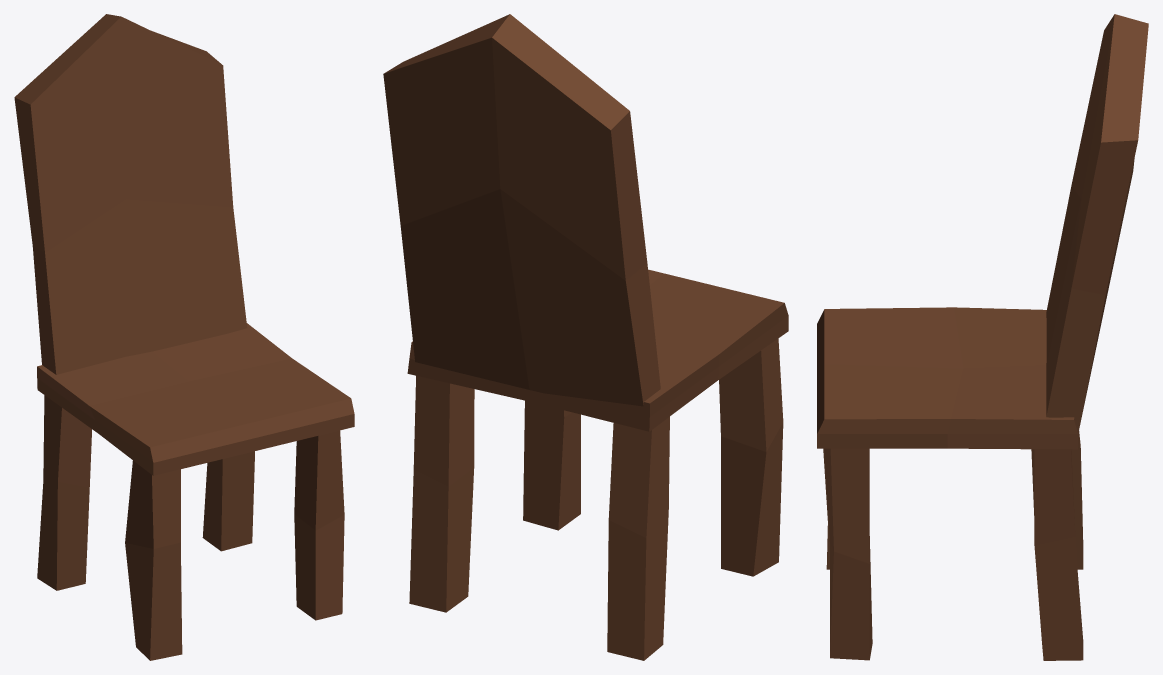
The model's file is wooden_chair.glb.
3 views of the same model, side by side, from view 1: azimuth 30°, elevation 25°; view 2: azimuth 150°, elevation 25°; view 3: azimuth 270°, elevation 25° (orthographic). The views are drawn at different scales.
Visible parts, largest first — view 1: Mesh; view 2: Mesh; view 3: Mesh.
Boxes of the visible parts, <box> form: Mesh: <box>14,14,354,660</box>; Mesh: <box>383,14,788,660</box>; Mesh: <box>817,14,1148,660</box>.
Bounding box in the file's own units: 0.5281 × 1.28 × 0.6506.
